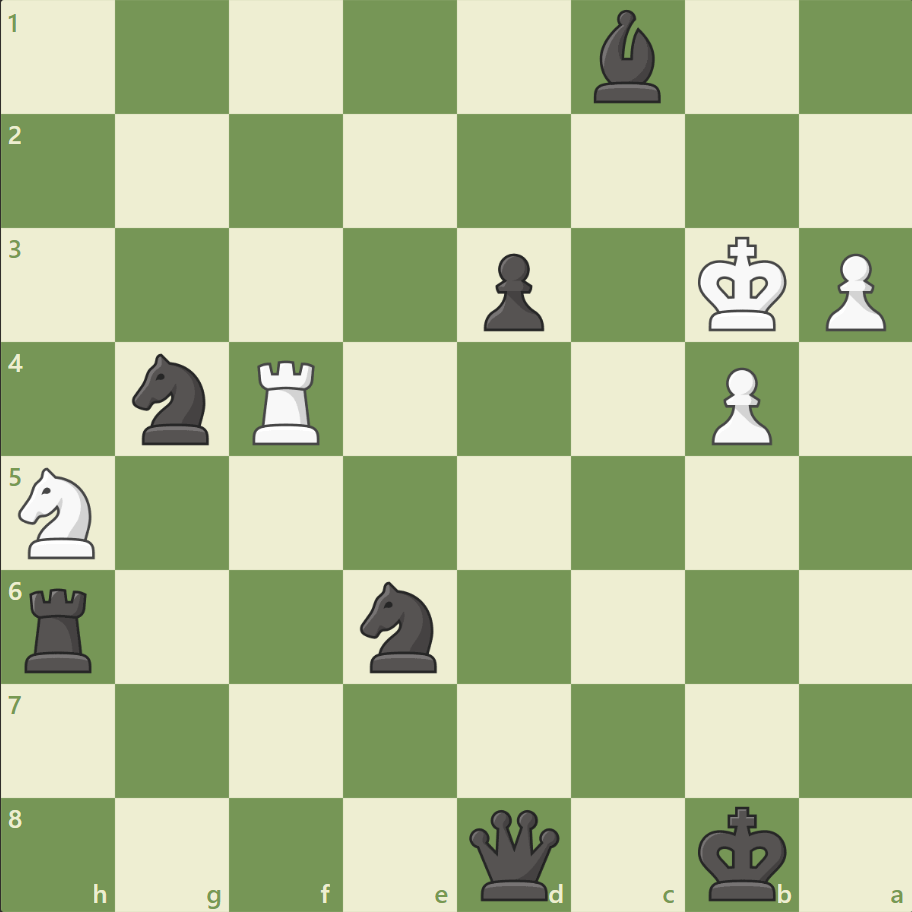K: (692, 231, 792, 339)
N: (11, 461, 108, 564)
P: (701, 359, 776, 450), (815, 246, 889, 337)
R: (246, 352, 329, 449)
b: (585, 6, 669, 109)
k: (692, 798, 792, 906)
n: (351, 575, 449, 677), (124, 348, 222, 450)
p: (474, 246, 549, 337)
q: (464, 804, 563, 903)
r: (19, 579, 102, 676)
